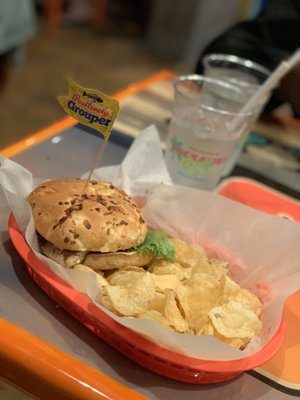pizza: (160, 73, 260, 191)
soup: (24, 177, 176, 271)
